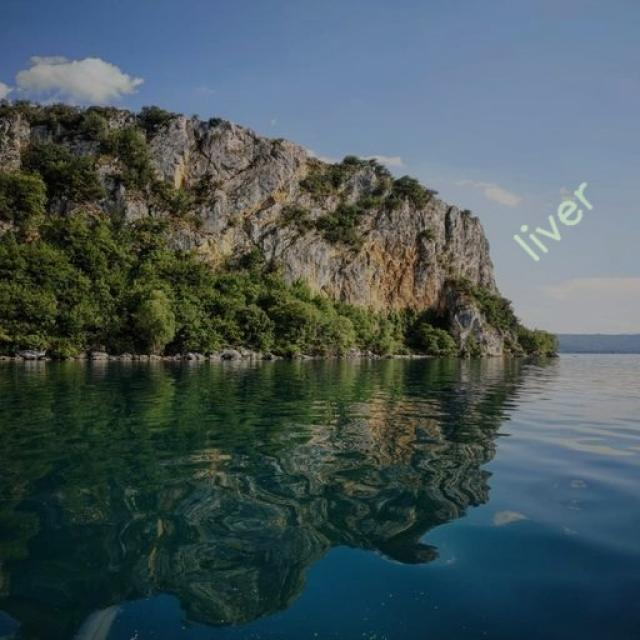watermark: (522, 162, 600, 271)
